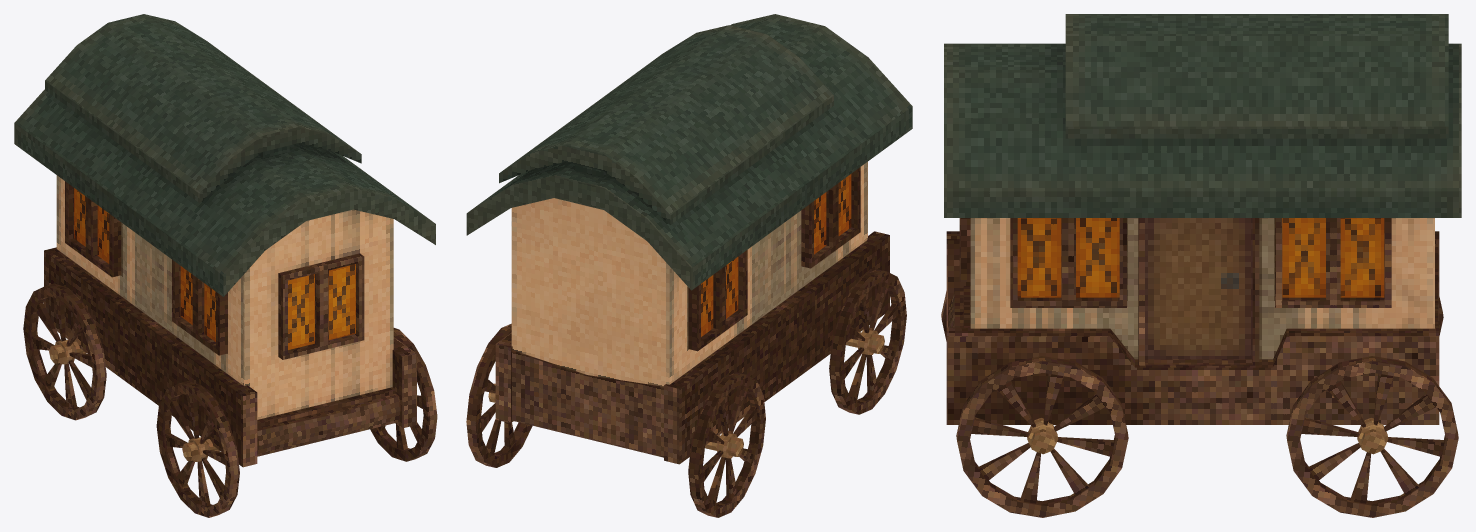
File: Cart_4.gltf
3 renders of one model, left to right at view 1: azimuth 30°, elevation 25°; view 2: azimuth 150°, elevation 25°; view 3: azimuth 270°, elevation 25°, orthographic. The views are drawn at different scales.
Parts seen in each view (by area): view 1: Cart_4, Wheels_1, Wheels_1.003; view 2: Cart_4, Wheels_1.003, Wheels_1; view 3: Cart_4, Wheels_1, Wheels_1.003.
Part boxes in pixels (x1,y1,x2,y2): Cart_4: [14, 14, 435, 467]; Wheels_1: [156, 328, 437, 517]; Wheels_1.003: [23, 283, 106, 420]; Cart_4: [466, 14, 912, 464]; Wheels_1.003: [466, 323, 765, 517]; Wheels_1: [829, 269, 906, 414]; Cart_4: [944, 14, 1461, 424]; Wheels_1: [941, 291, 1128, 517]; Wheels_1.003: [1286, 297, 1458, 517].
Size of the model in its own units: 6.36 by 9.25 by 10.2.
1 material, 1 textured.
